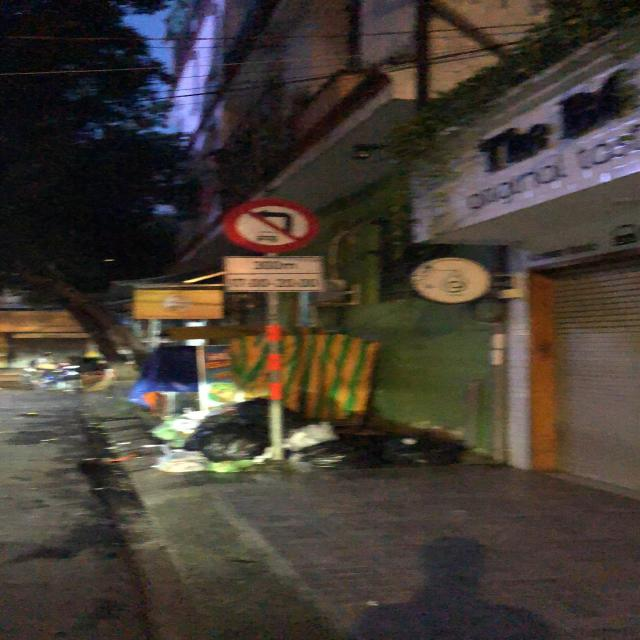Bien bao cam xe o to re trai: (221, 198, 326, 254)
